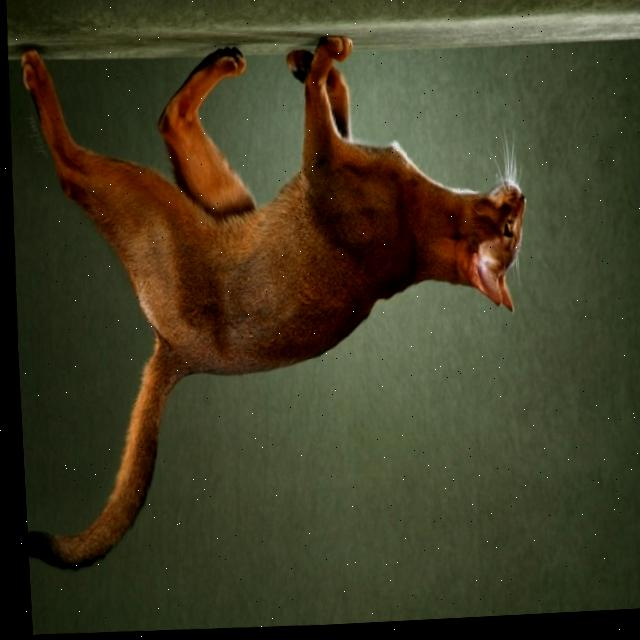Abyssinian: (2, 19, 543, 587)
